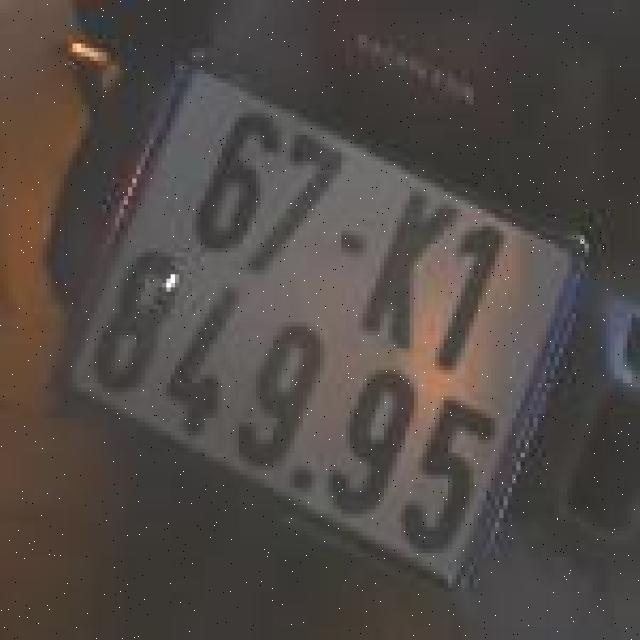1: (413, 214, 534, 386)
4: (153, 272, 276, 444)
5: (390, 390, 507, 570)
6: (178, 98, 297, 270)
7: (231, 120, 356, 301)
8: (82, 236, 198, 406)
9: (226, 307, 347, 483), (319, 352, 436, 526)
K: (349, 174, 480, 365)
